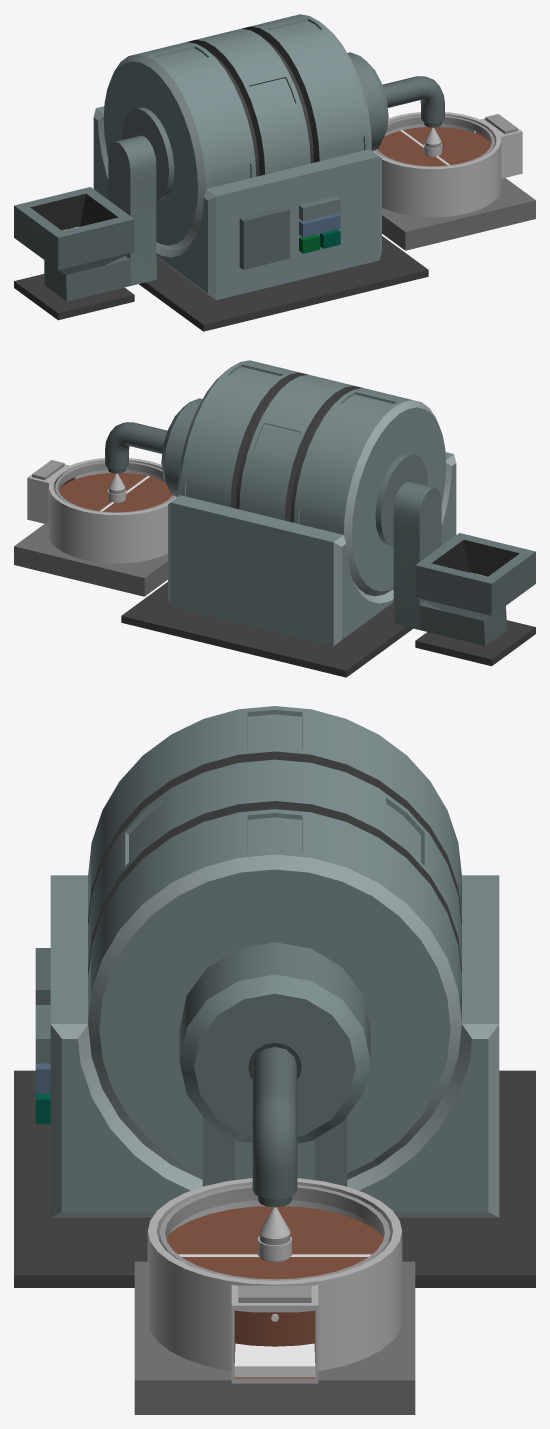
File: mech_test.fbx
3 views of the same model, one above another, from view 1: azimuth 30°, elevation 25°; view 2: azimuth 150°, elevation 25°; view 3: azimuth 270°, elevation 25° (orthographic). The views are drawn at different scales.
Visible parts, largest first — view 1: mech_1, mech_2; view 2: mech_1, mech_2; view 3: mech_1, mech_2, conveyor.
Boxes of the visible parts, bbox=[...] form: mech_1: bbox=[14, 14, 444, 331]; mech_2: bbox=[373, 112, 535, 250]; mech_1: bbox=[105, 360, 535, 677]; mech_2: bbox=[14, 458, 176, 596]; mech_1: bbox=[14, 706, 535, 1287]; mech_2: bbox=[134, 1178, 415, 1414]; conveyor: bbox=[234, 1343, 315, 1377].
Size of the model in its own units: 455 by 196 by 233.
